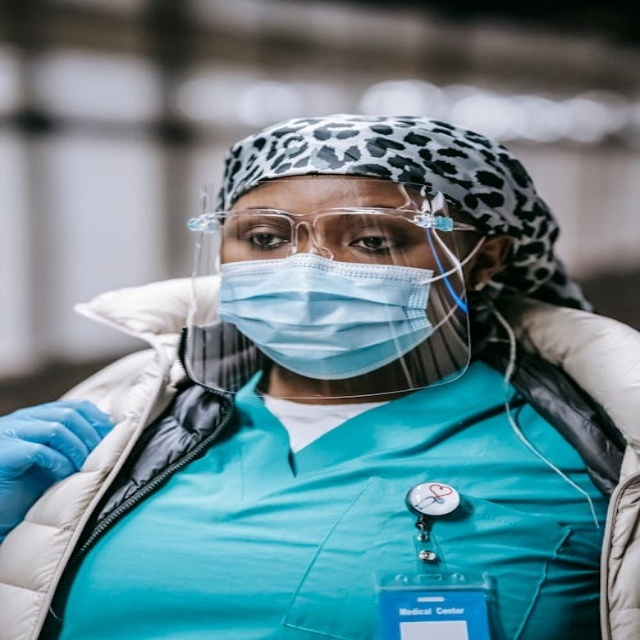Gafas: (192, 201, 476, 260)
Guantes: (0, 398, 117, 546)
Mascara: (216, 249, 452, 379)
